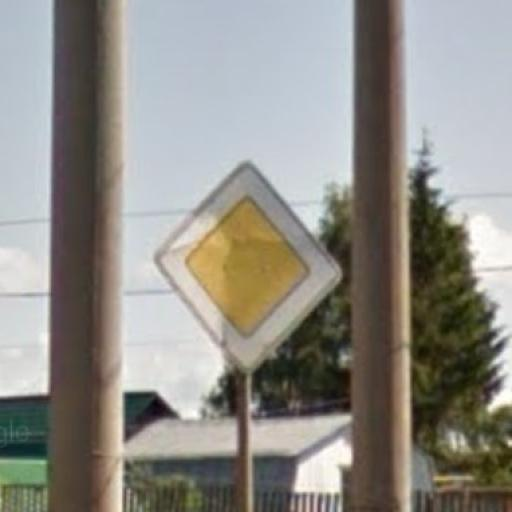traffic_sign: (154, 160, 345, 376)
